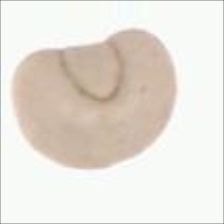L5: (10, 27, 178, 172), (57, 37, 126, 105), (68, 138, 157, 173)
